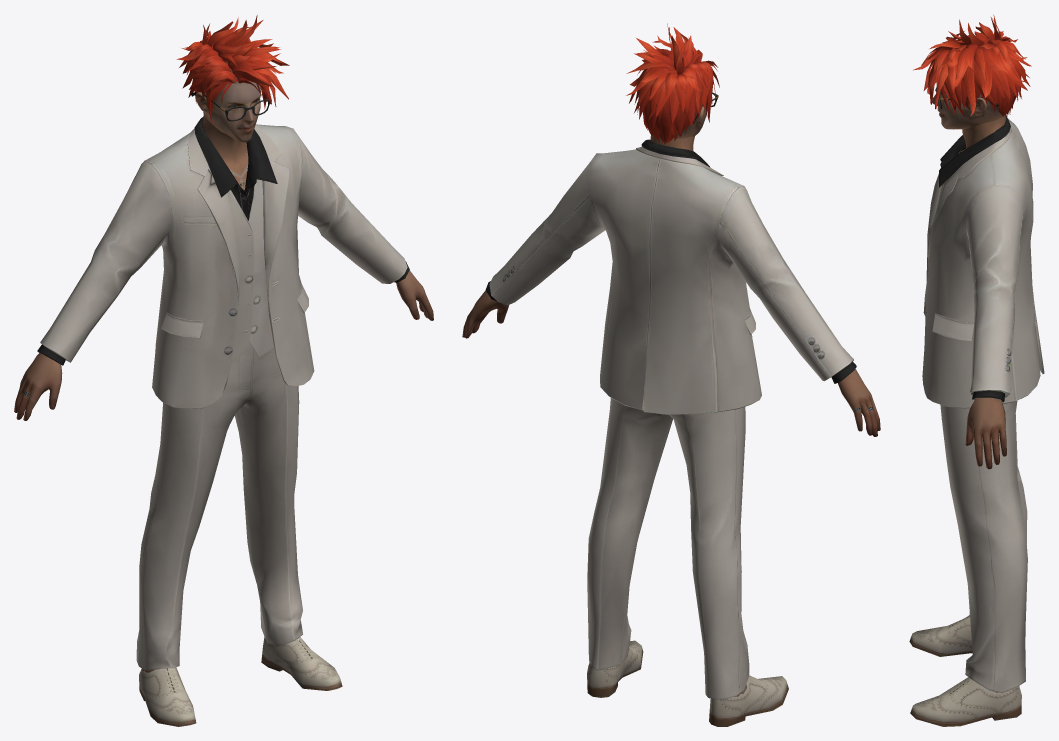
Rendered from ff-skyler.glb.
The picture shows the model from 3 angles, left to right: view 1: azimuth 30°, elevation 25°; view 2: azimuth 150°, elevation 25°; view 3: azimuth 270°, elevation 25°; orthographic projection.
Parts seen in each view (by area): view 1: Object_5, Object_4, Object_2, Object_7, Object_3; view 2: Object_5, Object_4, Object_7, Object_3, Object_2; view 3: Object_5, Object_4, Object_7, Object_3, Object_2.
Part boxes in pixels (x1,y1,x2,y2): Object_5: [21, 116, 409, 408]; Object_4: [136, 342, 302, 670]; Object_2: [14, 62, 433, 672]; Object_7: [176, 15, 289, 122]; Object_3: [139, 637, 342, 726]; Object_5: [485, 139, 873, 414]; Object_4: [587, 398, 749, 699]; Object_7: [626, 23, 719, 144]; Object_3: [587, 640, 788, 726]; Object_2: [462, 104, 880, 707]; Object_5: [922, 116, 1044, 408]; Object_4: [940, 401, 1027, 693]; Object_7: [913, 14, 1031, 116]; Object_3: [909, 615, 1021, 726]; Object_2: [932, 91, 1006, 469].
Bounding box in the file's own units: 4.11 × 6.4 × 1.16.
Materials: 6 (6 with a texture image).
